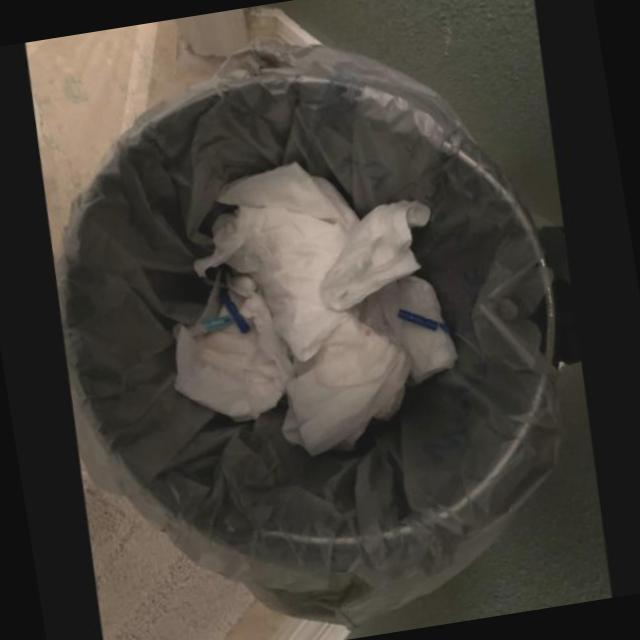giay: (192, 159, 359, 363), (281, 312, 412, 455), (172, 292, 285, 420), (318, 195, 431, 309), (356, 272, 458, 381)
